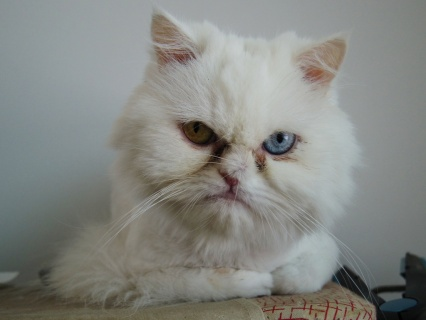Cat: (30, 3, 383, 315)
